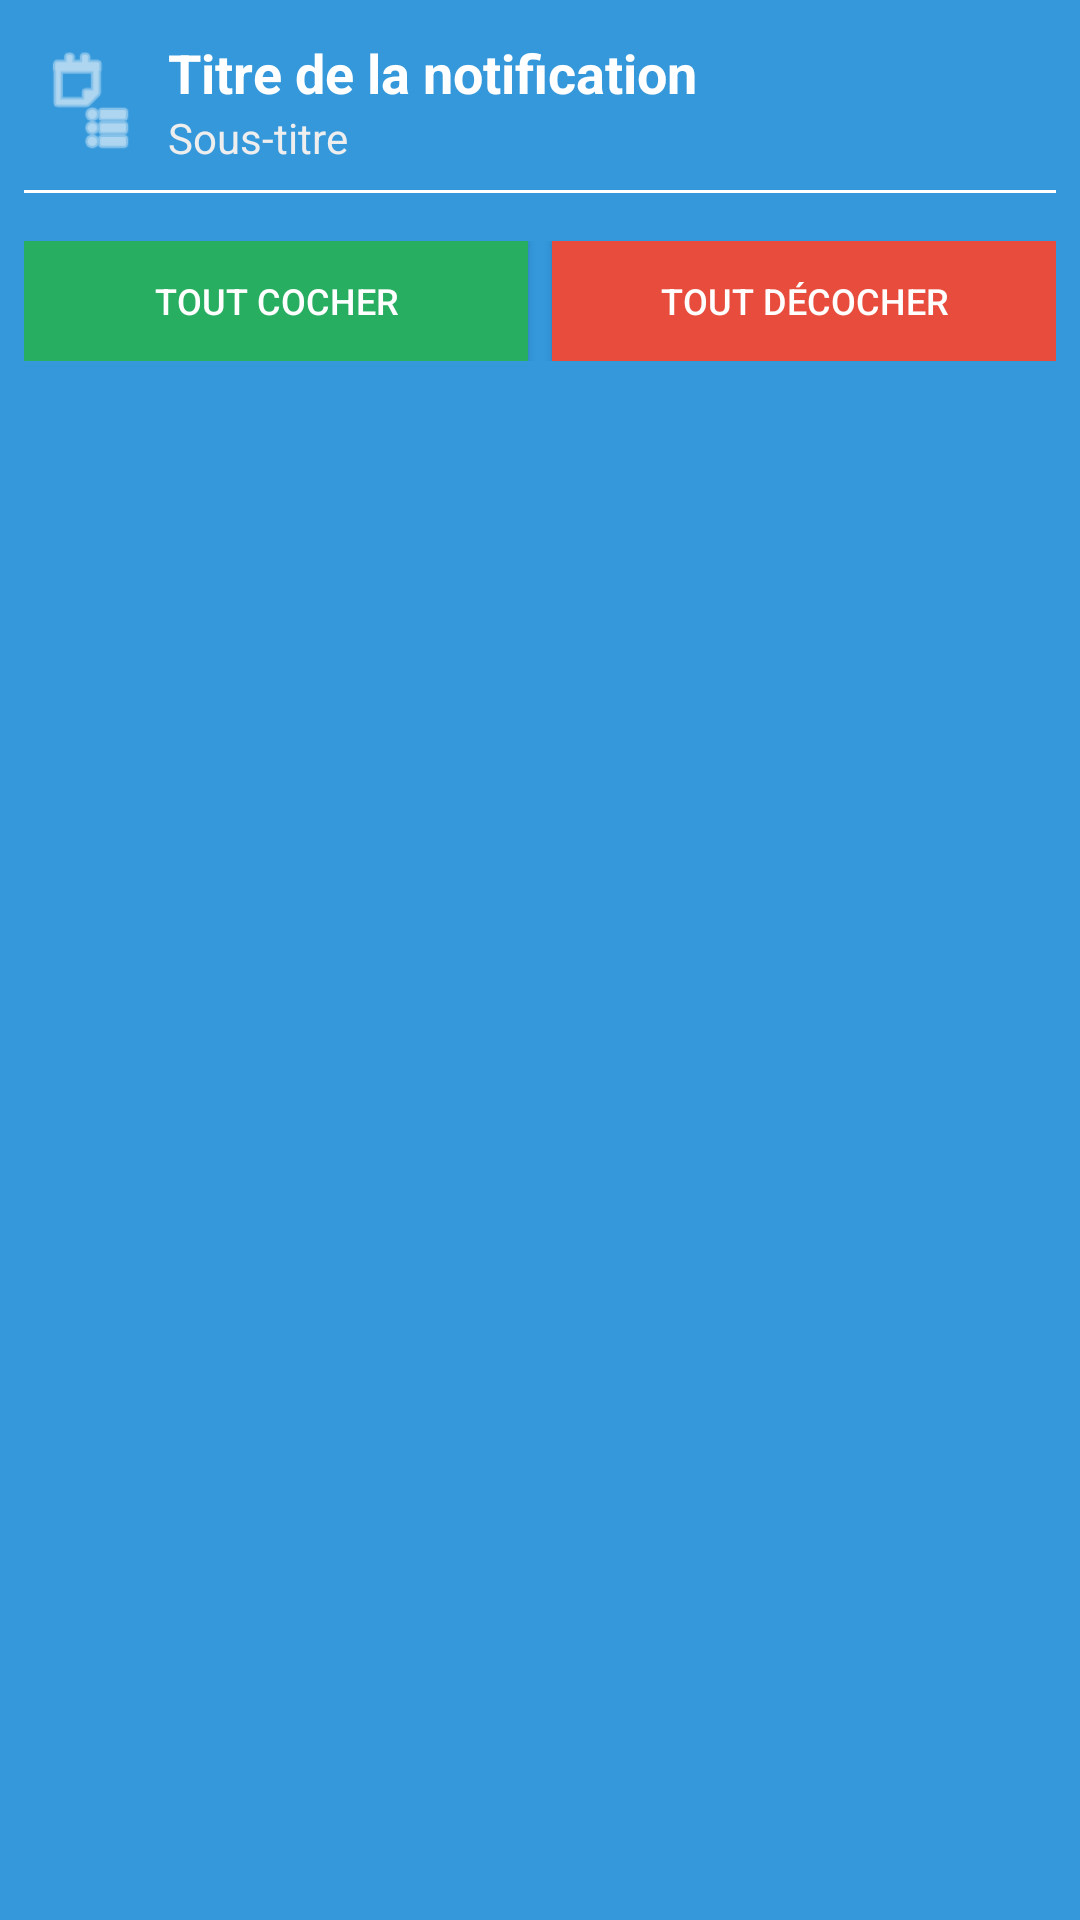

Screen size 1080 × 1920. Icon name, then its center in pixels as point (x, y):
Icône de liste: point (90, 100)
